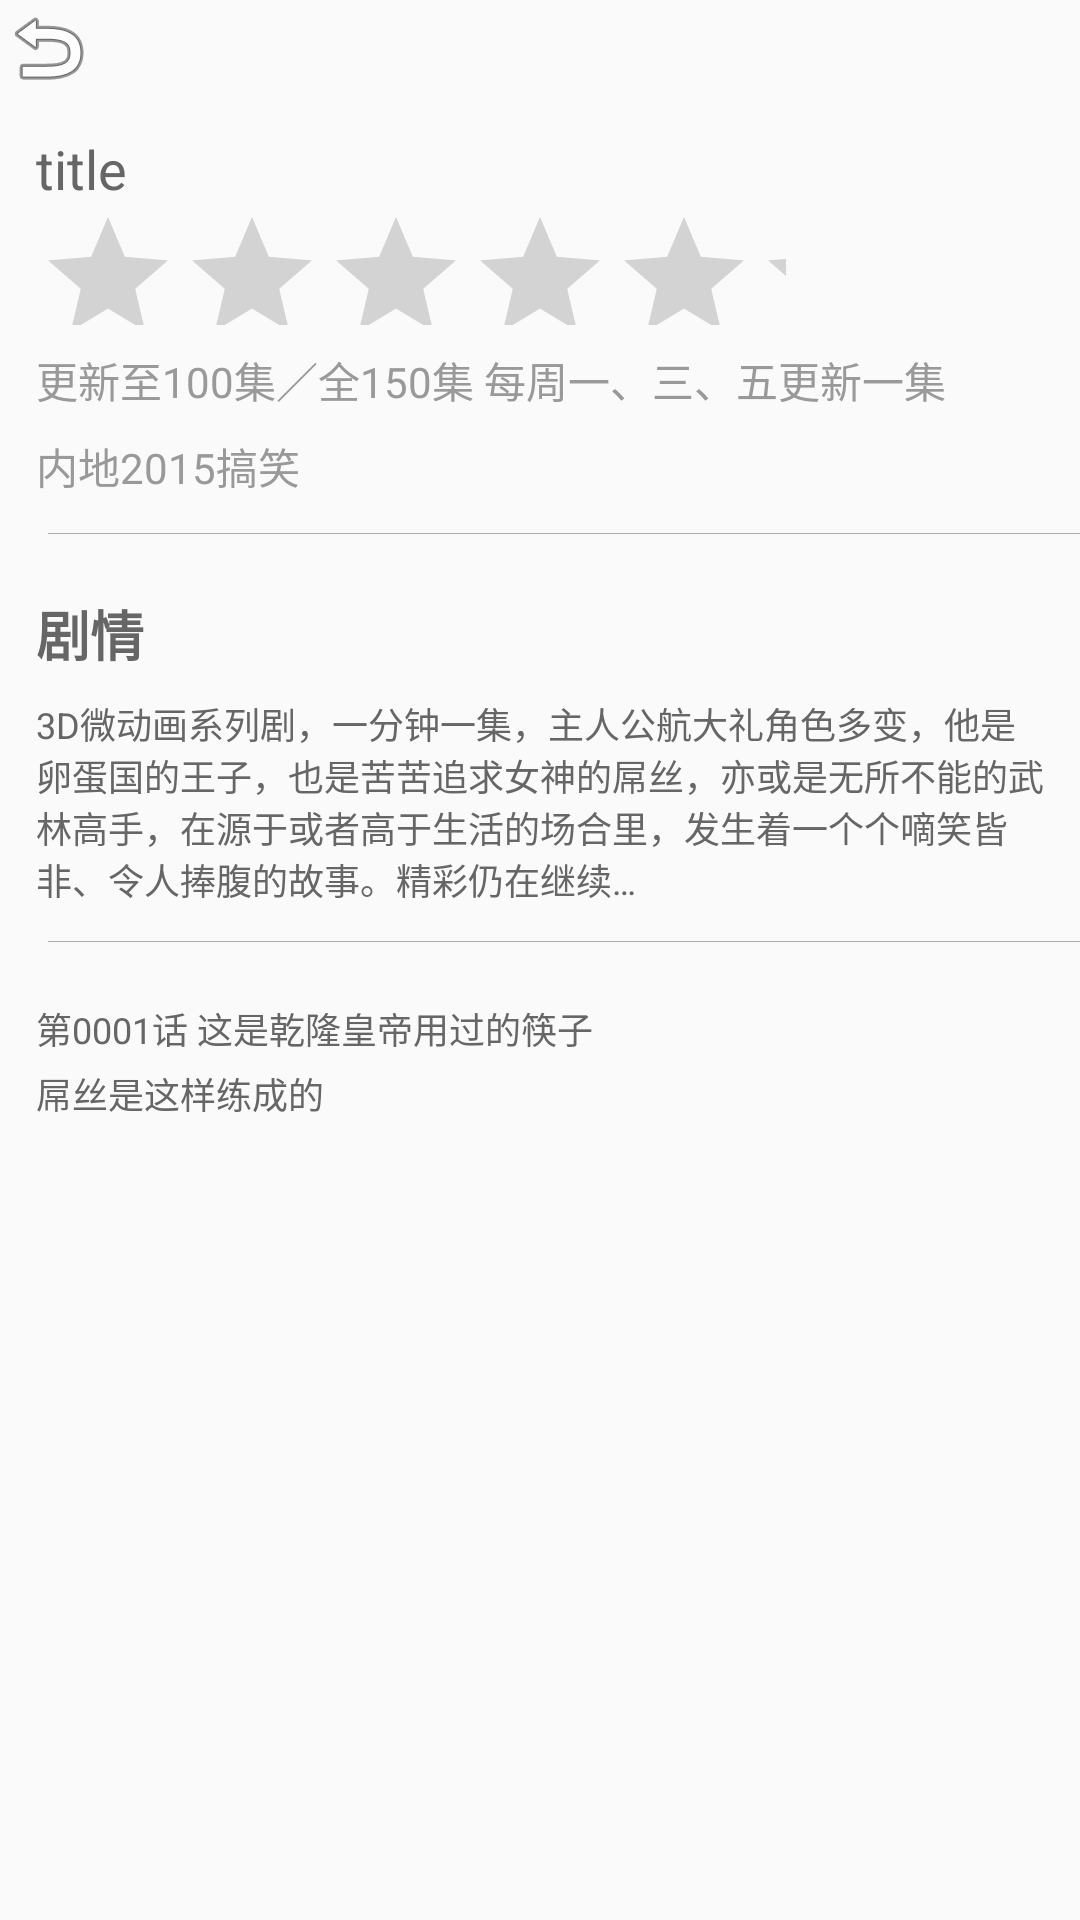

Screen size 1080×1920. Icon name, then its center in pixels as point (x, y):
revert: point (49, 48)
